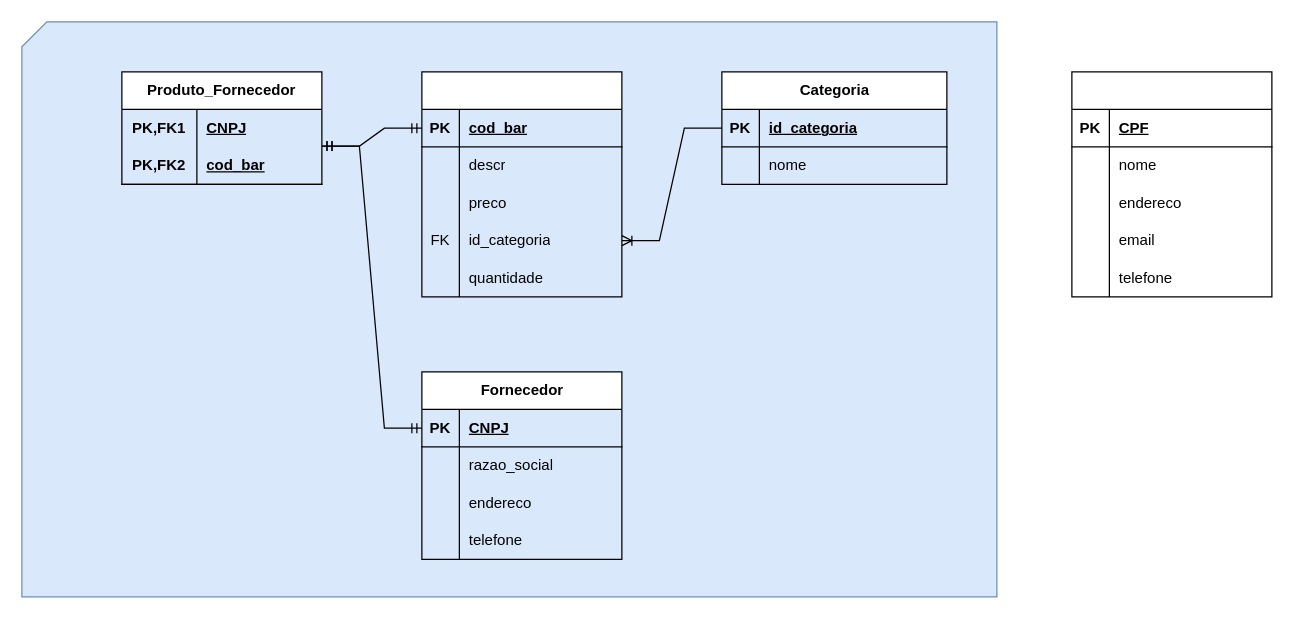
Some shapes in this 1294 by 619 pixel diagram are drawn without their labels. The box of each missing label's shape, as (x1, y1, x2, y2) in pixels:
Cliente: (1071, 71, 1272, 297)
Produto: (421, 71, 622, 297)
